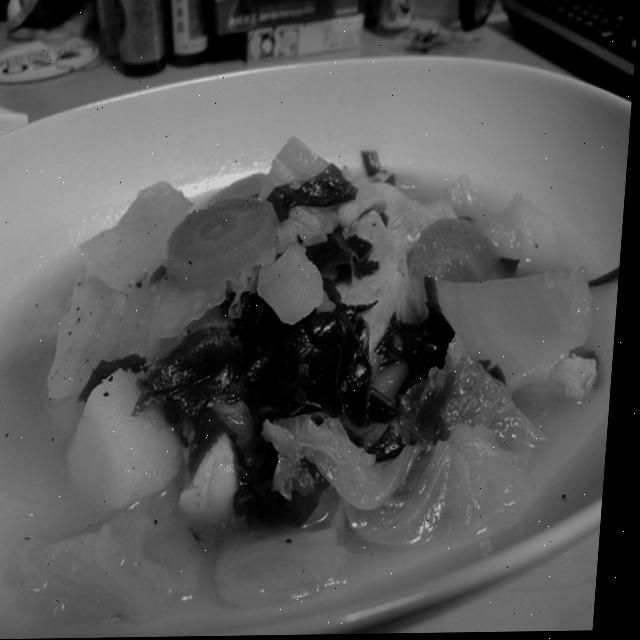汤锅炖物: (0, 63, 636, 630)
